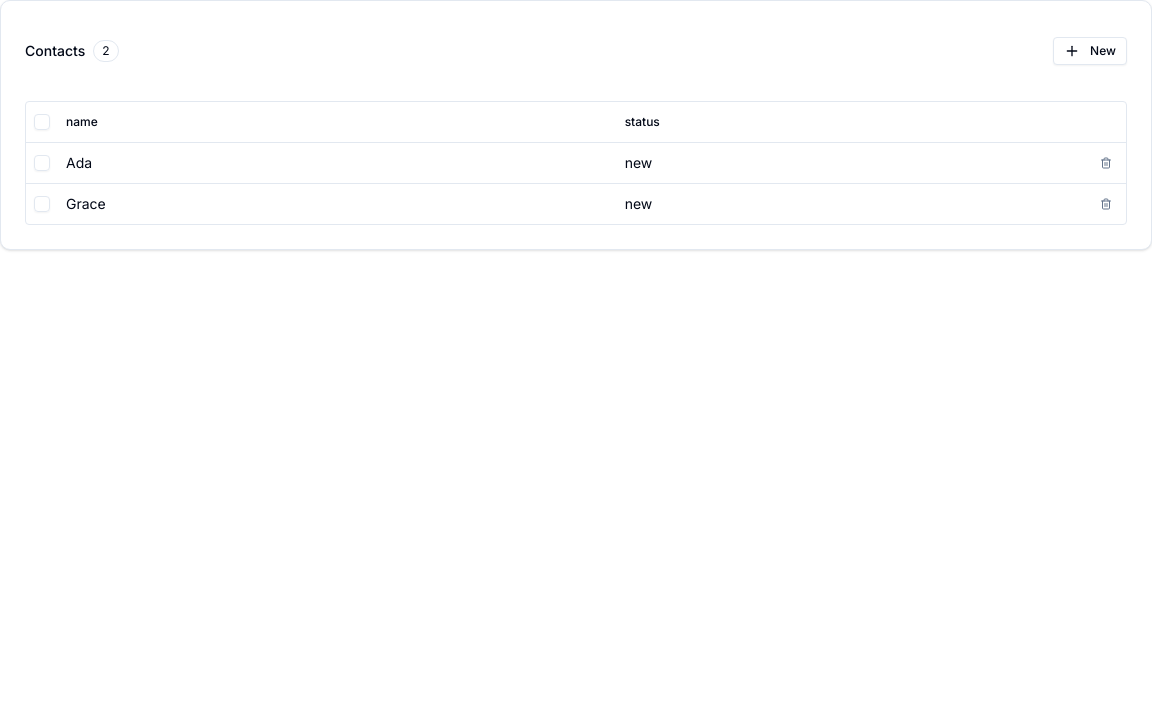
RelatedList › mass edit (bulk jobs) › polls to COMPLETED, toasts, refetches, and clears the selection
Click the checkbox with test id "related-select-all": (42, 122) [34, 114, 50, 130]
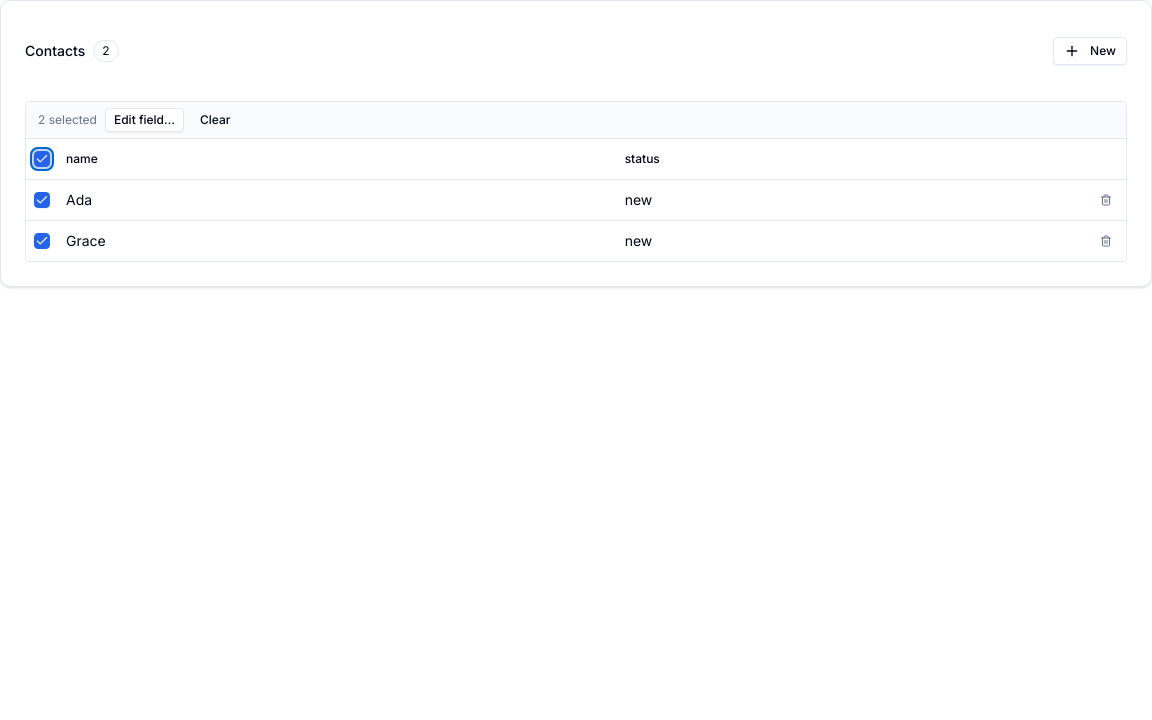
Click the button with test id "related-mass-edit-open": (144, 120) [105, 108, 184, 132]
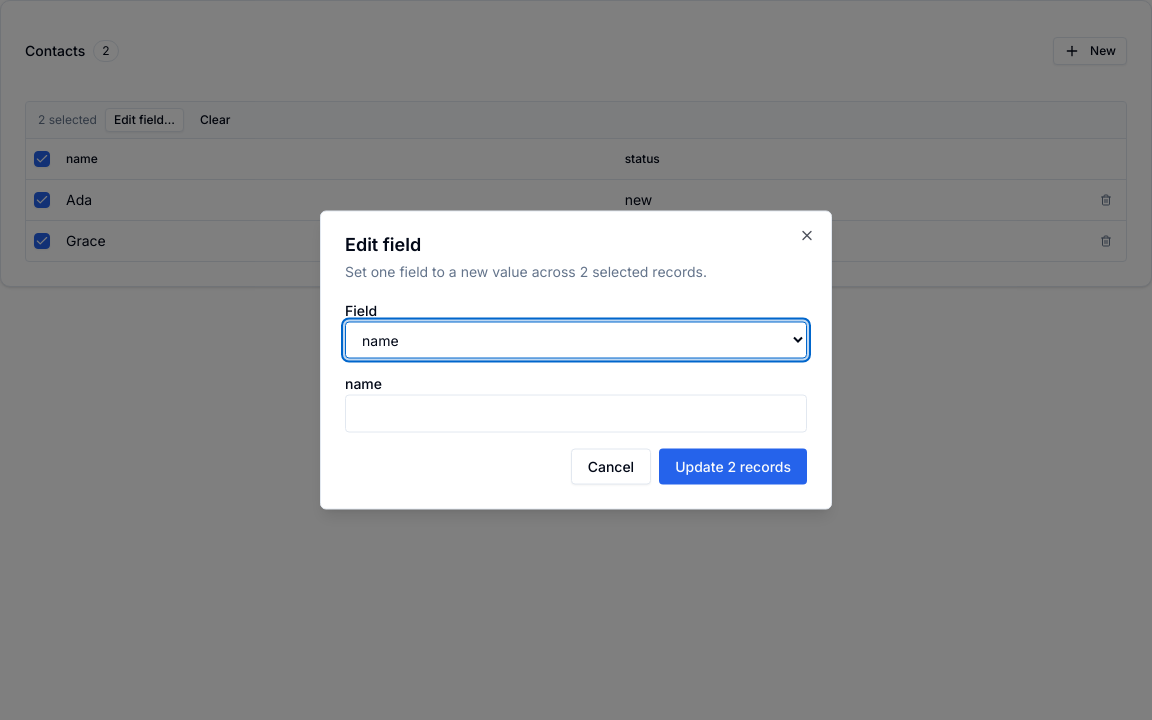
Select "status" in the dropdown with test id "mass-edit-field-select": (576, 340) [345, 322, 807, 358]
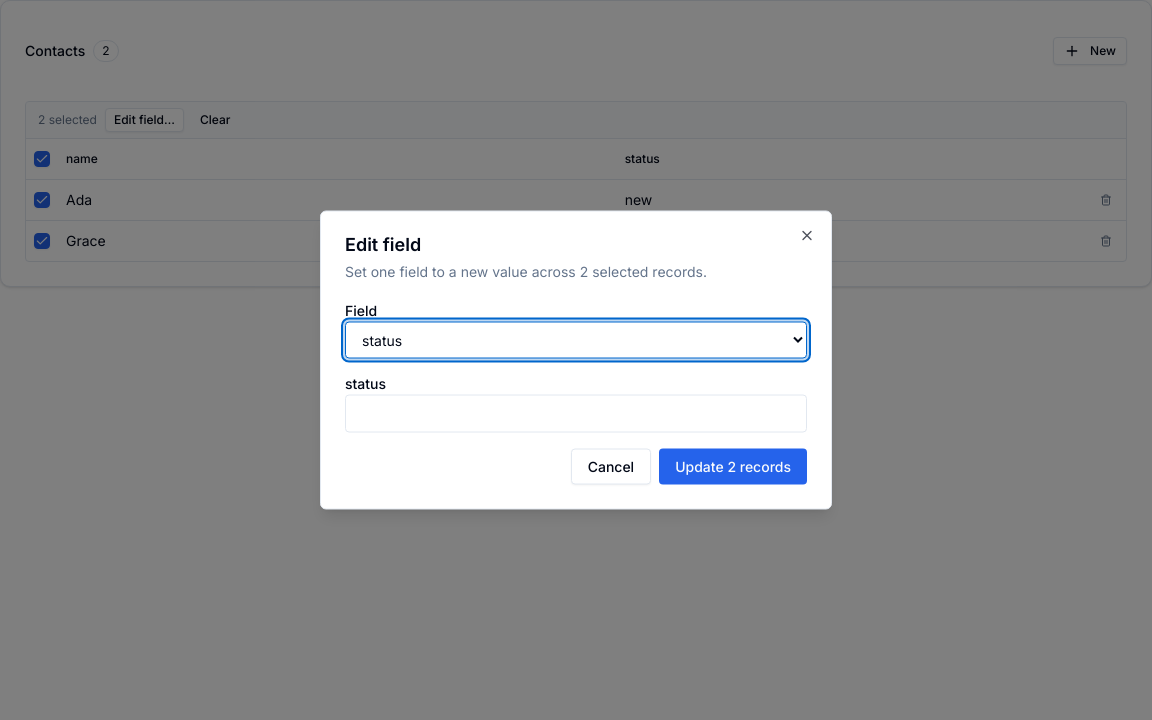
In the field: (576, 414) [345, 394, 807, 432], type "closed"
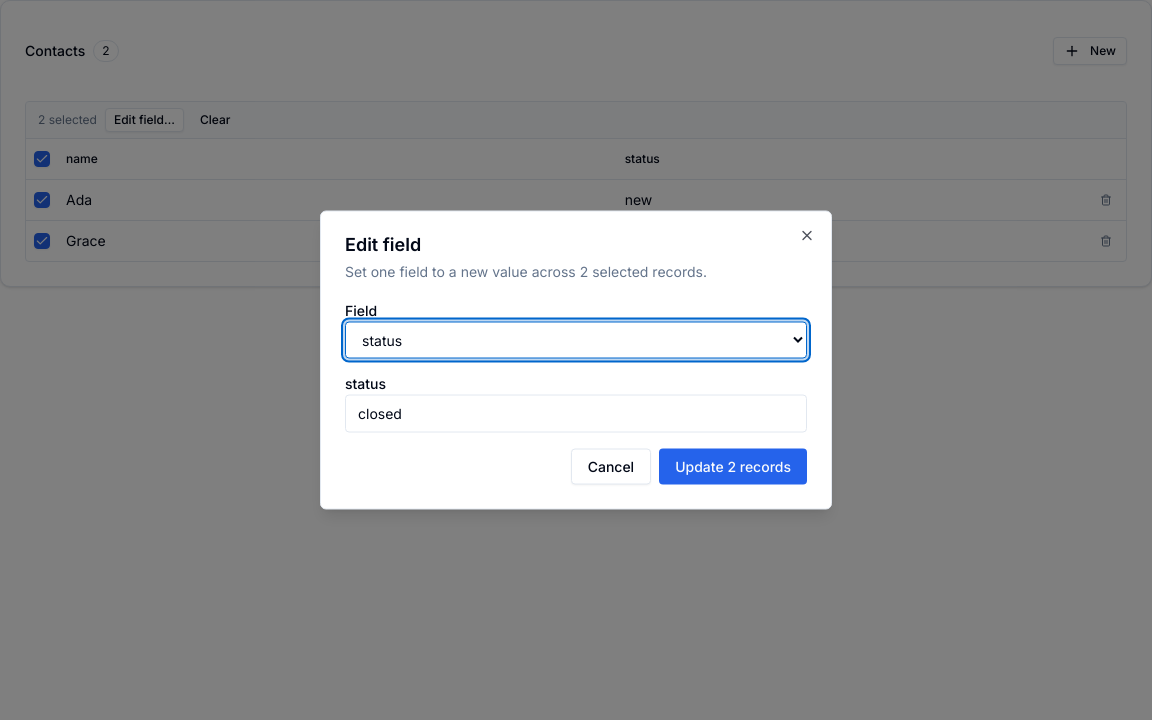
Click the button with test id "mass-edit-submit": (733, 466) [659, 448, 807, 484]
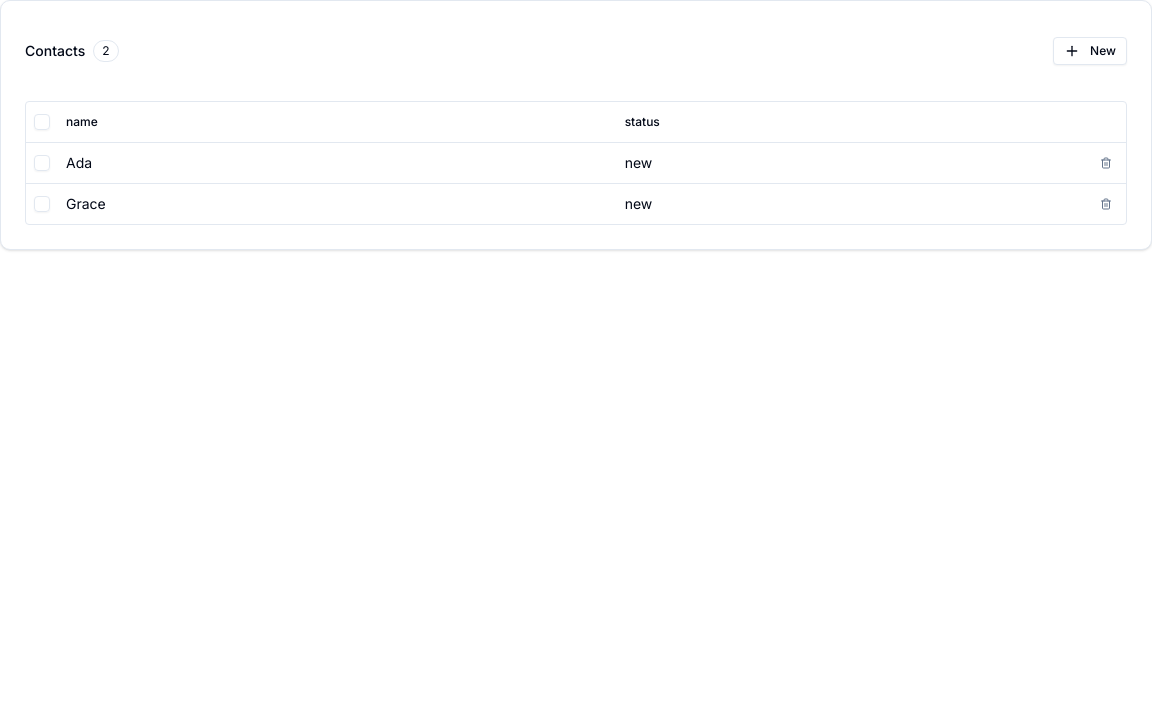
Result: the dialog with test id "mass-edit-dialog" is gone
Result: the element with test id "related-mass-edit-bar" is gone
